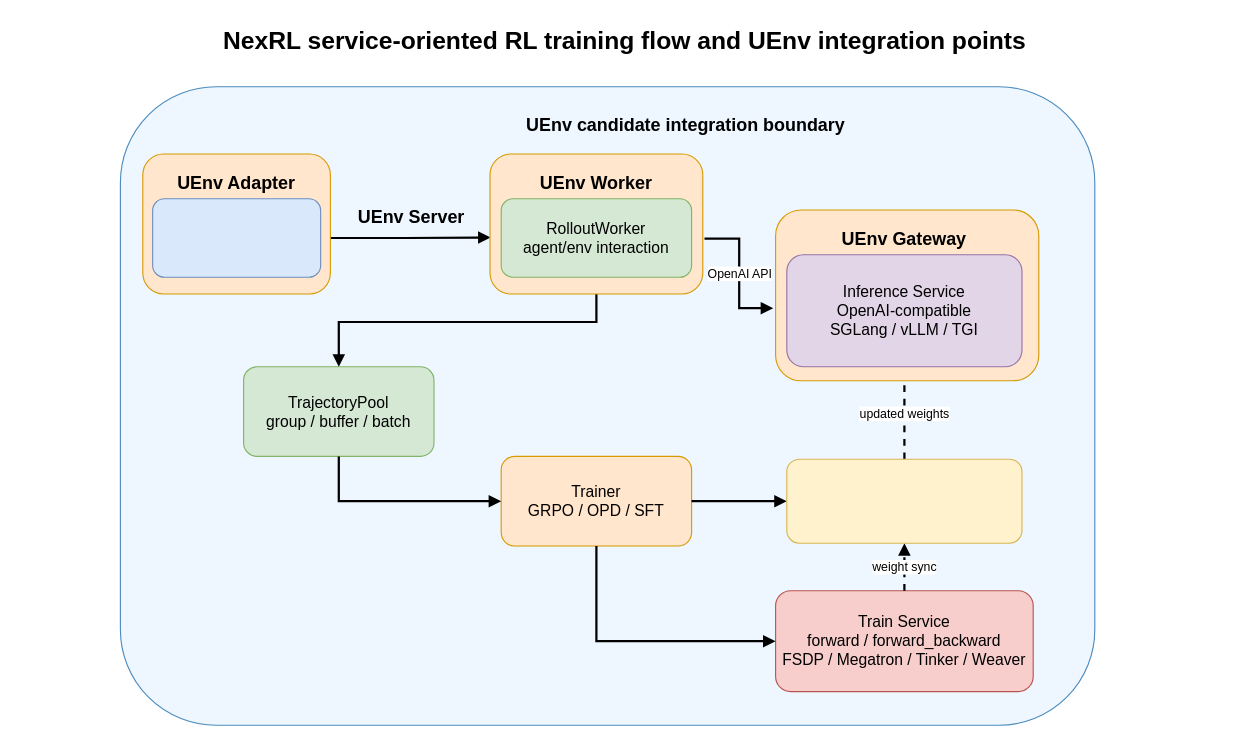
The diagram is 1248 pixels wide and 745 high, and some of its shapes have lost their labels. The centre of each missing label's shape, as x and y in pixels:
DataLoader training samples: point (236, 237)
WeightSyncController policy version / freeze / sync: point (904, 500)
